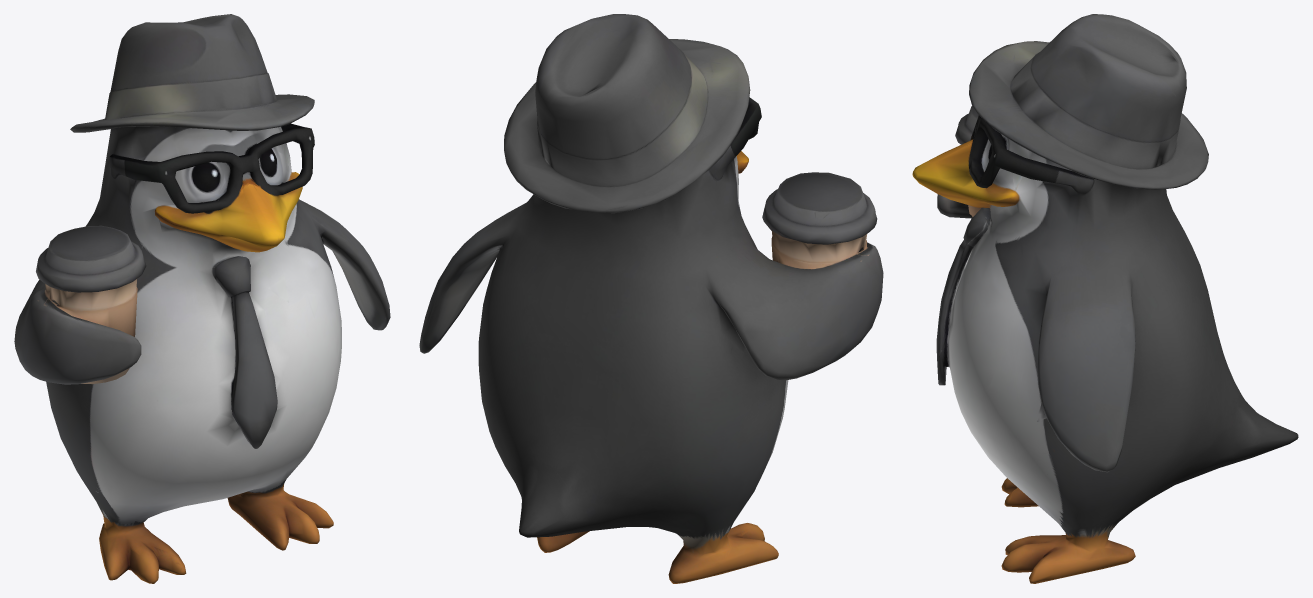
The model's file is 高雅企鹅-休憩.fbx.
3 renders of one model, left to right at view 1: azimuth 30°, elevation 25°; view 2: azimuth 150°, elevation 25°; view 3: azimuth 270°, elevation 25°, orthographic. The views are drawn at different scales.
Visible parts, largest first — view 1: tripo_node_f9ff46b1; view 2: tripo_node_f9ff46b1; view 3: tripo_node_f9ff46b1.
Boxes of the visible parts, x1,y1,x2,y2 form: tripo_node_f9ff46b1: [14, 14, 390, 583]; tripo_node_f9ff46b1: [419, 14, 883, 583]; tripo_node_f9ff46b1: [912, 14, 1298, 583].
Size of the model in its own units: 0.796 by 1 by 0.6875.
1 material, 1 textured.
